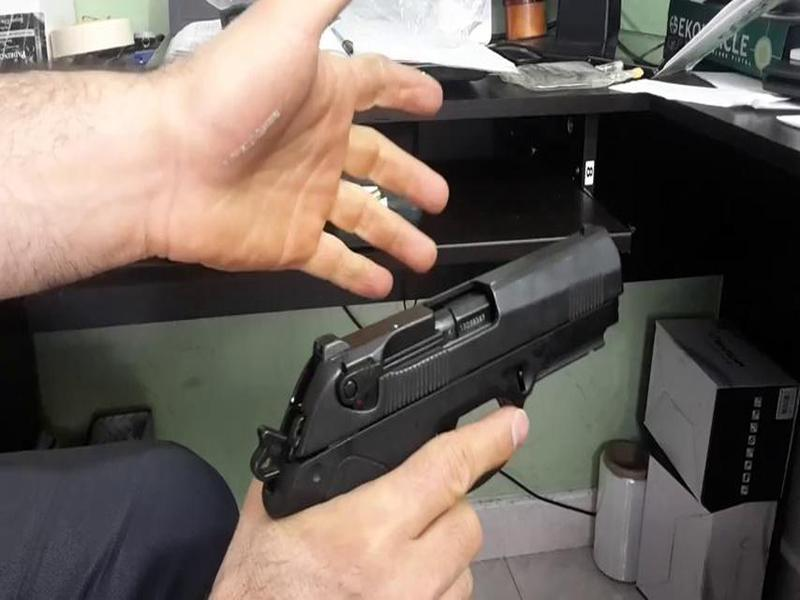Pistola: (238, 205, 640, 557)
